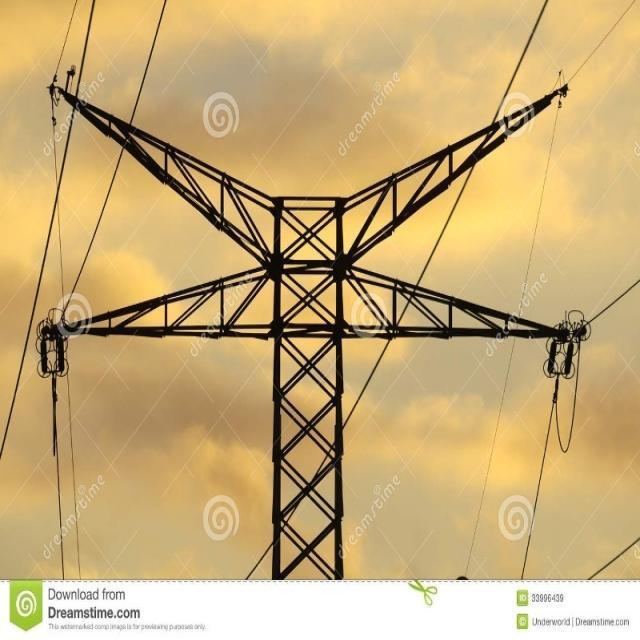non-critical vegetation: (38, 50, 576, 577)
